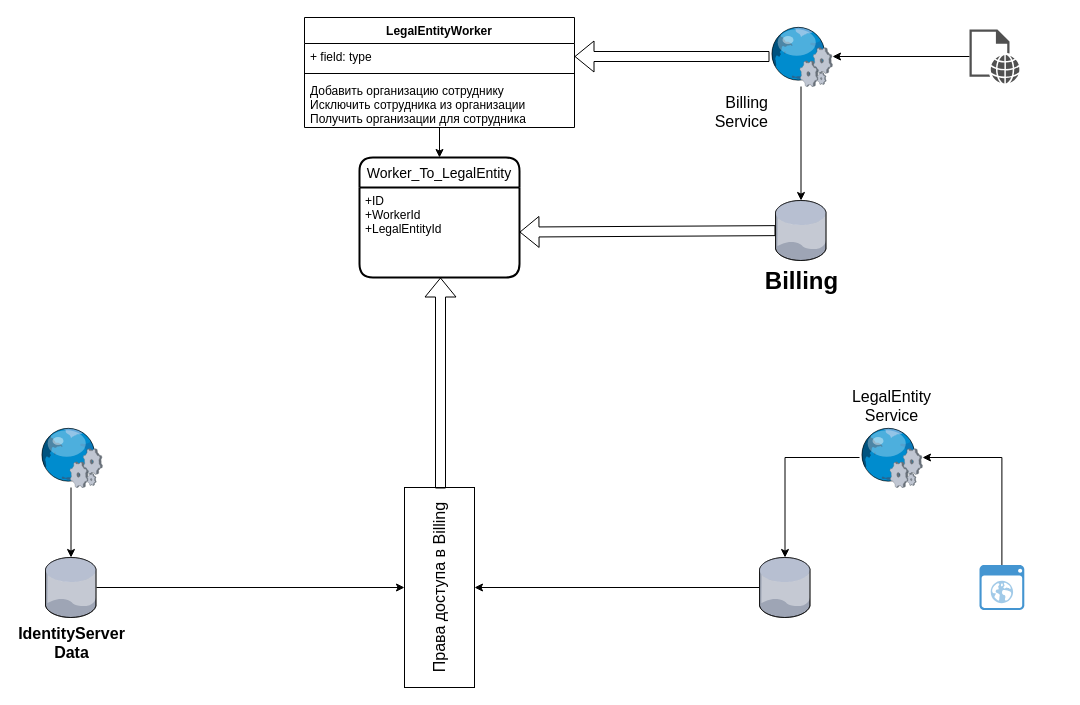
The diagram is 1080 pixels wide and 705 high, and some of its shapes have lost their labels. Here are the shapes that lost their labels. From the top down, the centre of each, then its label:
point (994, 56): WEB APP
point (70, 457): Identity Service
point (784, 587): LegalEntities
point (1001, 587): WEB интерфейс CRUD операции
